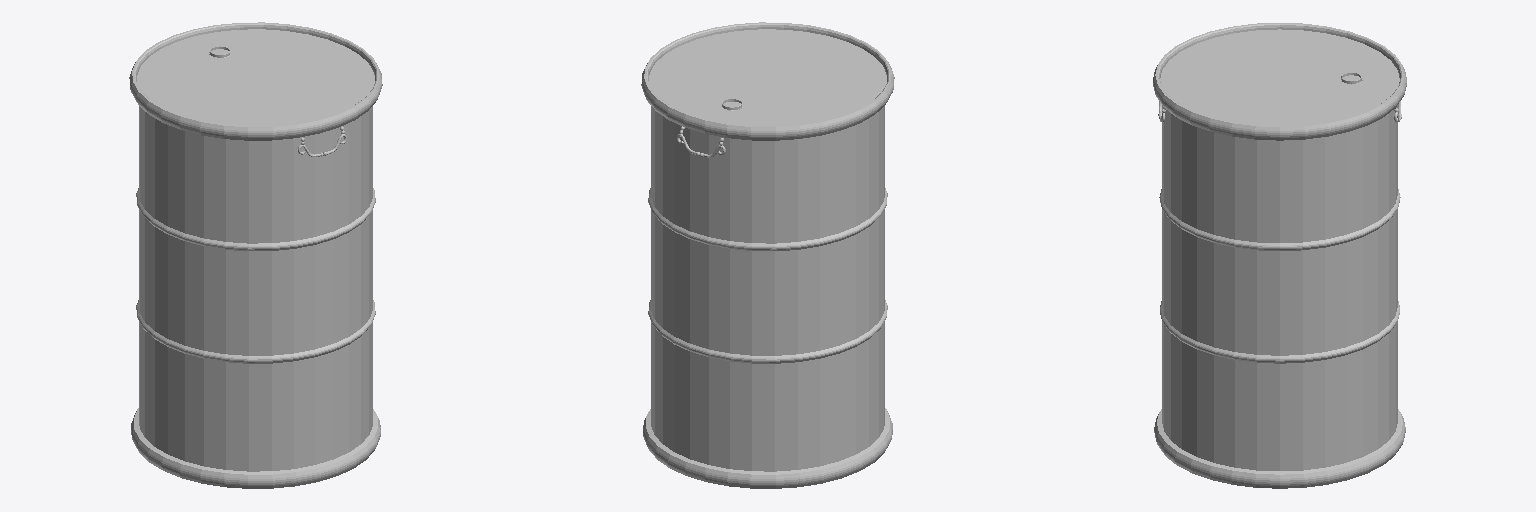
File: Barrel.obj
The picture shows the model from 3 angles: view 1: azimuth 30°, elevation 25°; view 2: azimuth 150°, elevation 25°; view 3: azimuth 270°, elevation 25°; orthographic projection.
Parts seen in each view (by area): view 1: Barrel; view 2: Barrel; view 3: Barrel.
Part boxes in pixels (x1,y1,x2,y2): Barrel: (129, 22, 382, 488); Barrel: (641, 22, 894, 488); Barrel: (1153, 23, 1406, 488).
Bounding box in the file's own units: 0.5039 × 0.7951 × 0.5072.